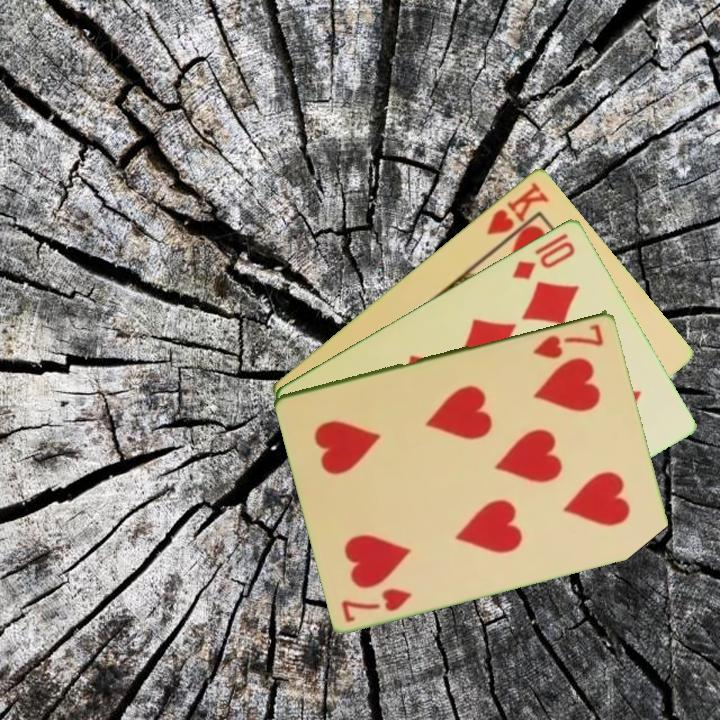10d: (508, 237, 579, 282)
7h: (530, 319, 607, 361), (338, 584, 415, 625)
Kh: (483, 178, 552, 251)
